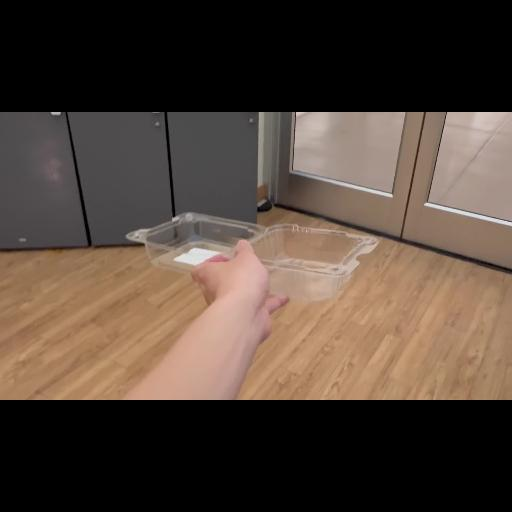small_plastic_container: (118, 205, 390, 309)
